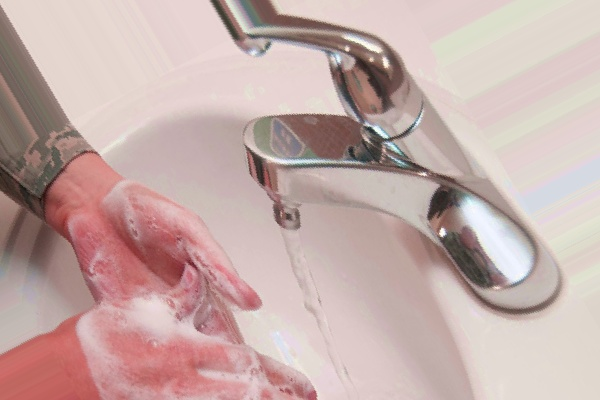washing hand: (0, 25, 512, 399)
